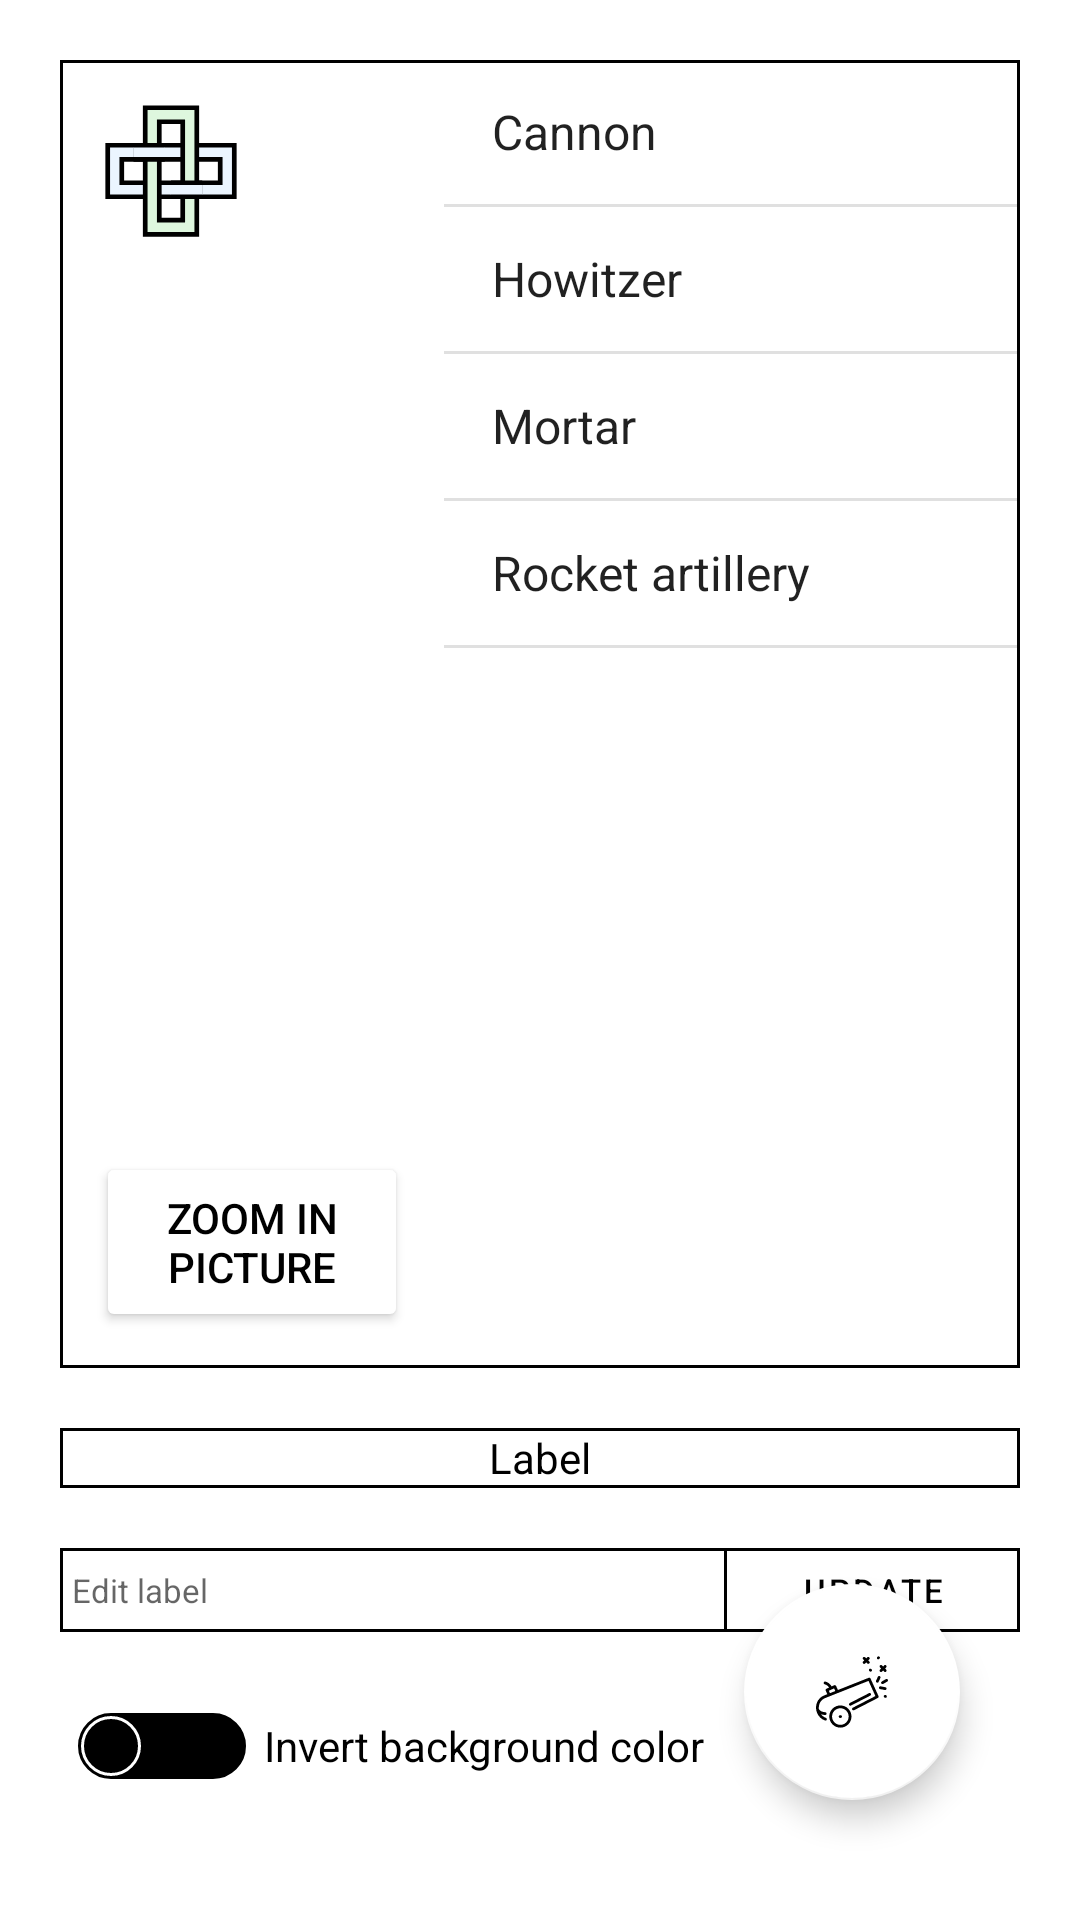

Icon click points for this 1080*1920 phone screenshot, format (x,y):
Image you can zoom in and out: (171,171)
